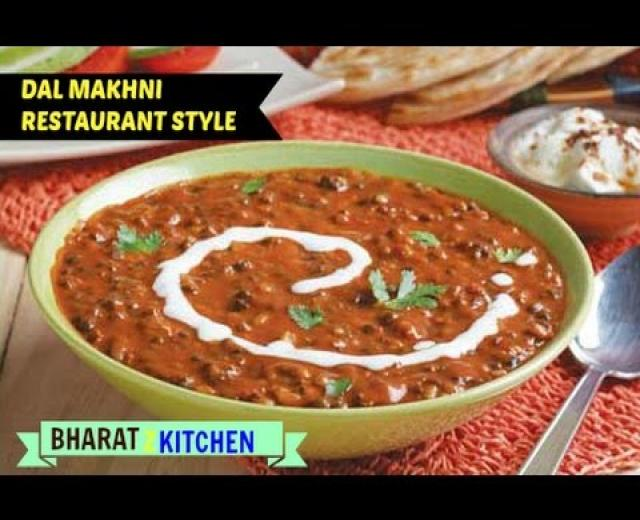dal makhni: (32, 153, 577, 452)
